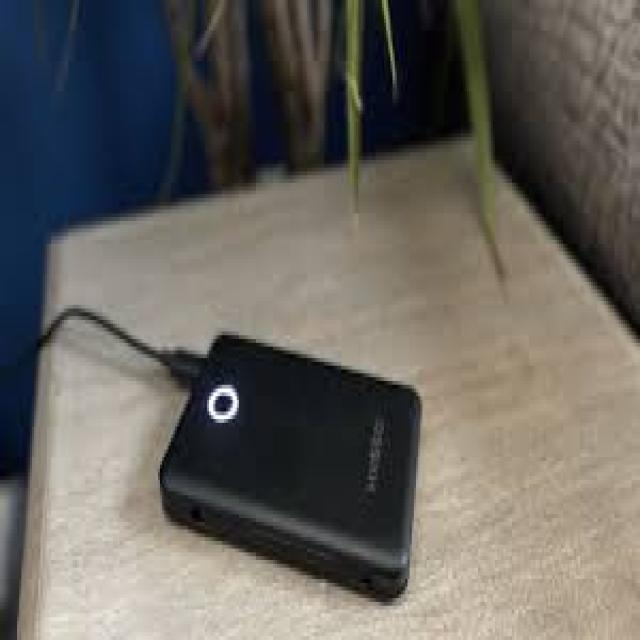portable-charger: (161, 337, 425, 612)
